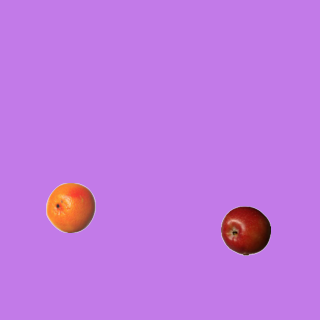Apple Braeburn: (220, 205, 270, 255)
Grapefruit Pink: (45, 182, 95, 232)
